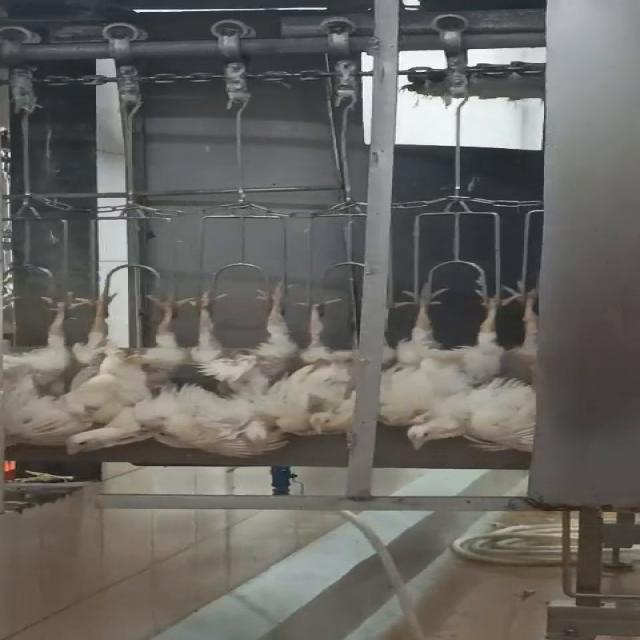chicken: (64, 286, 208, 458), (178, 281, 304, 458), (381, 280, 498, 450), (0, 283, 85, 452), (279, 289, 357, 441), (480, 278, 541, 454)
